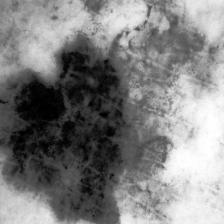Benign Marking or Mole: (0, 41, 170, 224)
